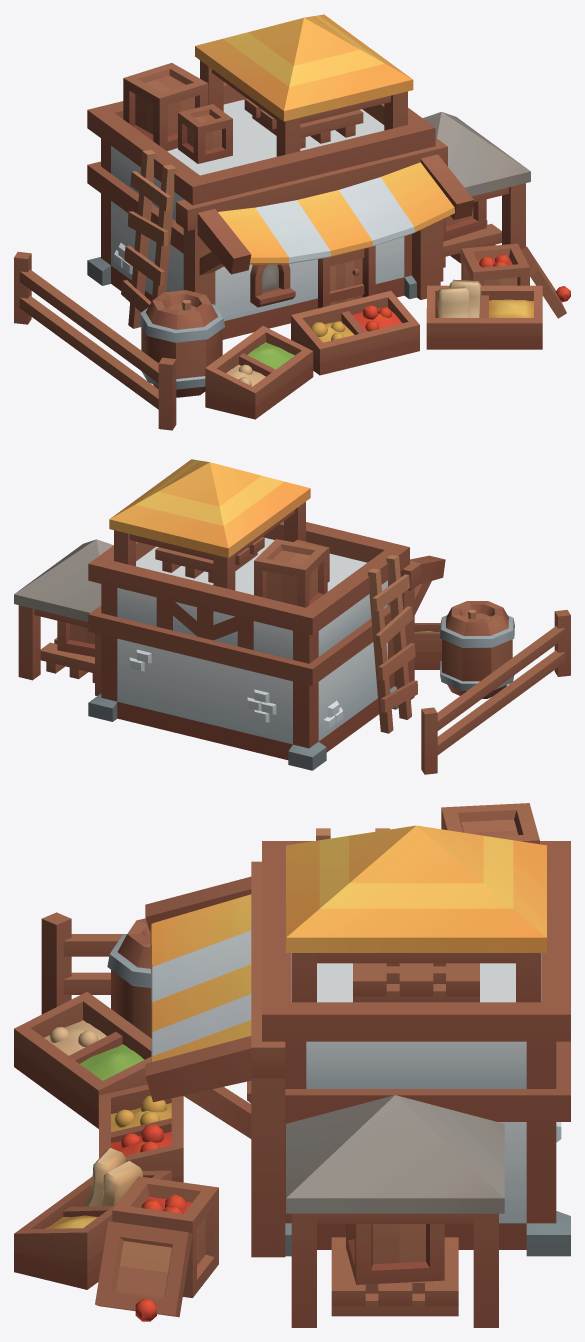
File: kay-mercado-amarelo.gltf
The picture shows the model from 3 angles, top to bottom: view 1: azimuth 30°, elevation 25°; view 2: azimuth 150°, elevation 25°; view 3: azimuth 270°, elevation 25°; orthographic projection. The views are drawn at different scales.
Parts seen in each view (by area): view 1: building_market_yellow; view 2: building_market_yellow; view 3: building_market_yellow.
Boxes of the visible parts, x1,y1,x2,y2 form: building_market_yellow: (14, 14, 570, 430); building_market_yellow: (14, 459, 570, 774); building_market_yellow: (14, 803, 570, 1327).
Size of the model in its own units: 9 by 4.91 by 6.58.
Materials: 1 (1 with a texture image).
